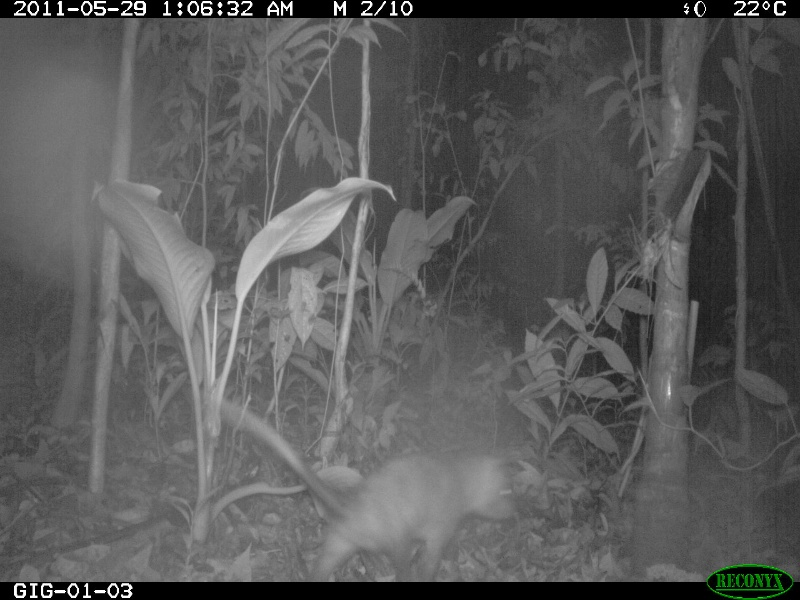opossum: (208, 388, 525, 582)
